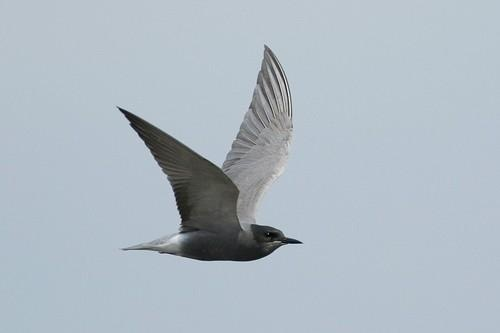bird: (114, 42, 306, 263)
